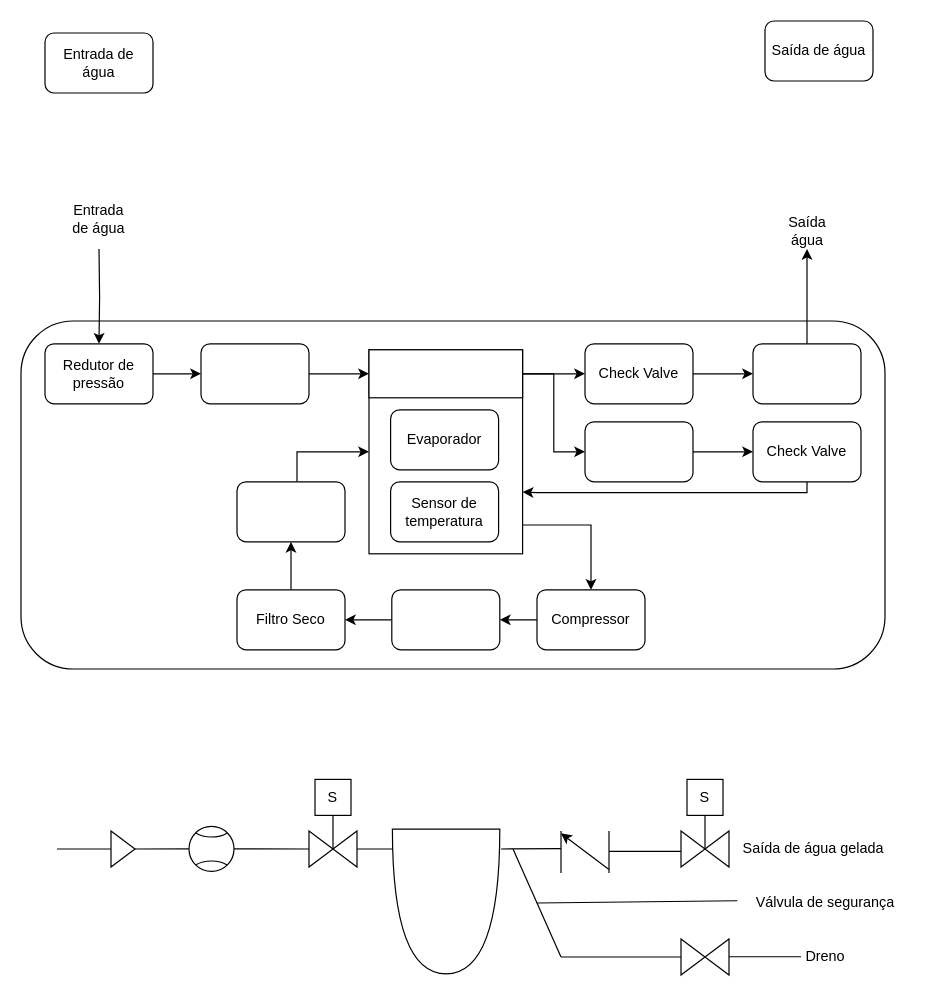
This 930x996 diagram has some shape labels left out. Each missing label, with the centre of its shape:
Bomba de diafragma: the point at 638,451
Condensador: the point at 445,619
Tanque de água: the point at 445,373
Tubo Capilar: the point at 290,511
Válvula de entrada: the point at 254,373
Válvula de água gelada: the point at 806,373
